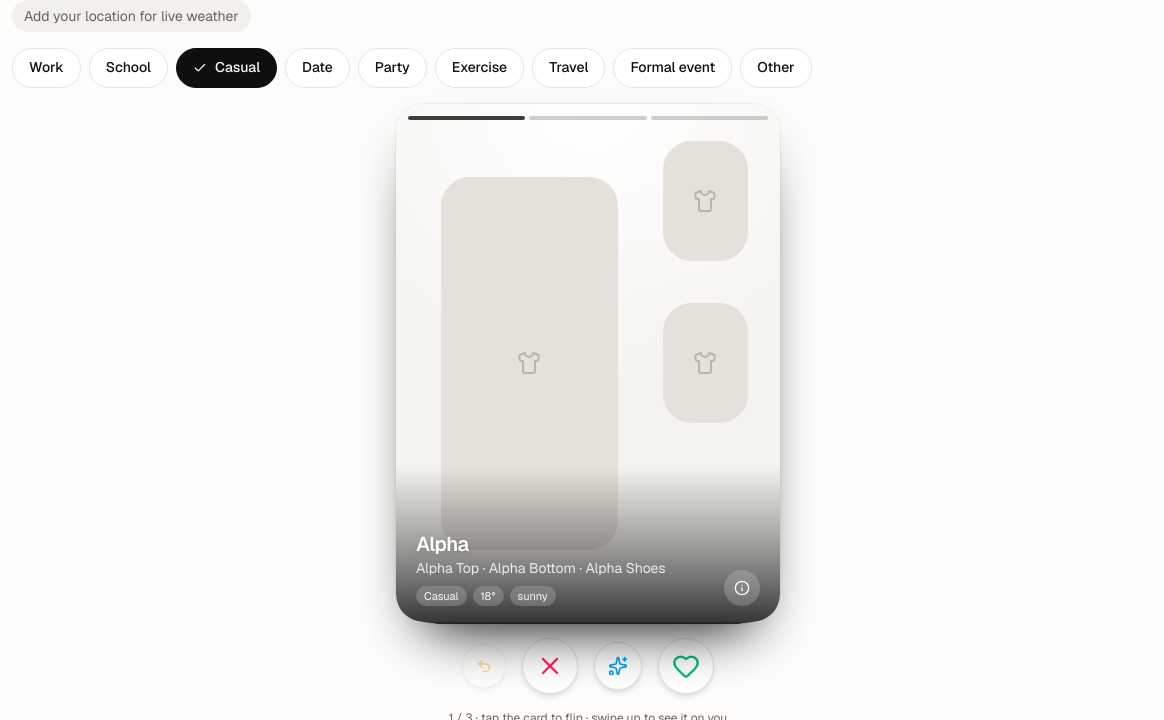
Test: SwipeDeck › a drag past the threshold counts as a swipe; a short drag snaps back
The width and height of the screenshot is (1164, 720).
Press the mouse on the element that starts with "Alpha": {"x": 588, "y": 363} [396,104,780,622]
Press the mouse on the element that starts with "Alpha": {"x": 588, "y": 363} [396,104,780,622]
(page scrolled)
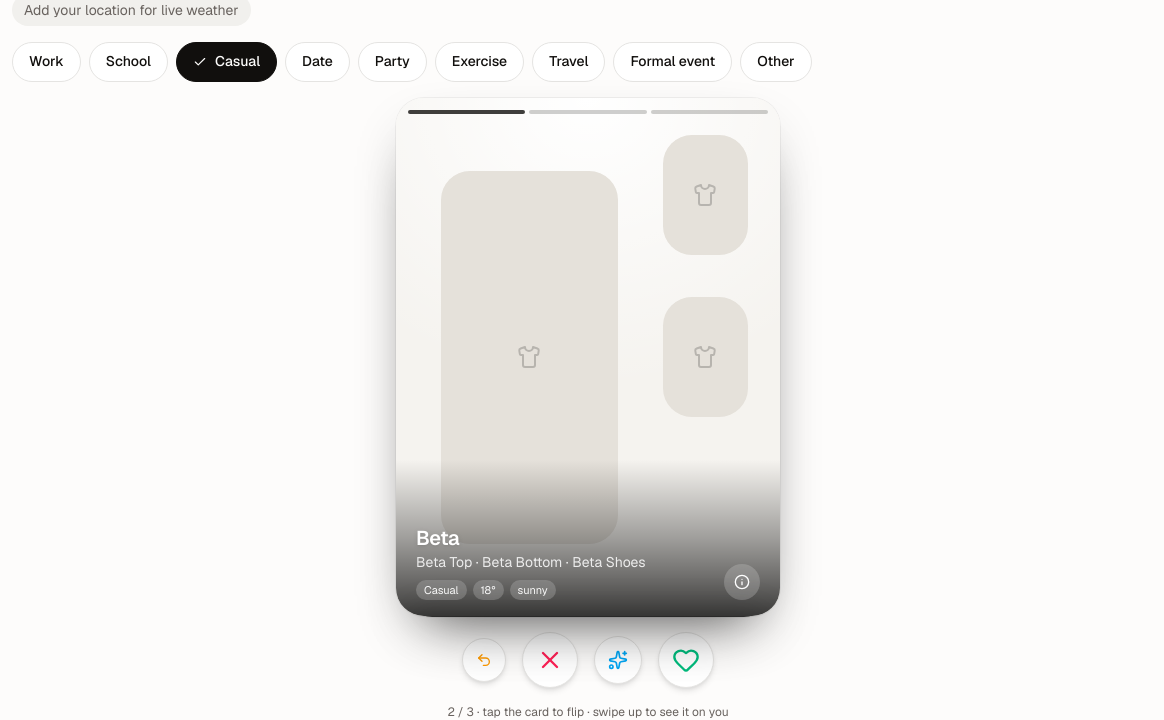
Now the text "2 / 3" is shown, box [447,704,729,719]
